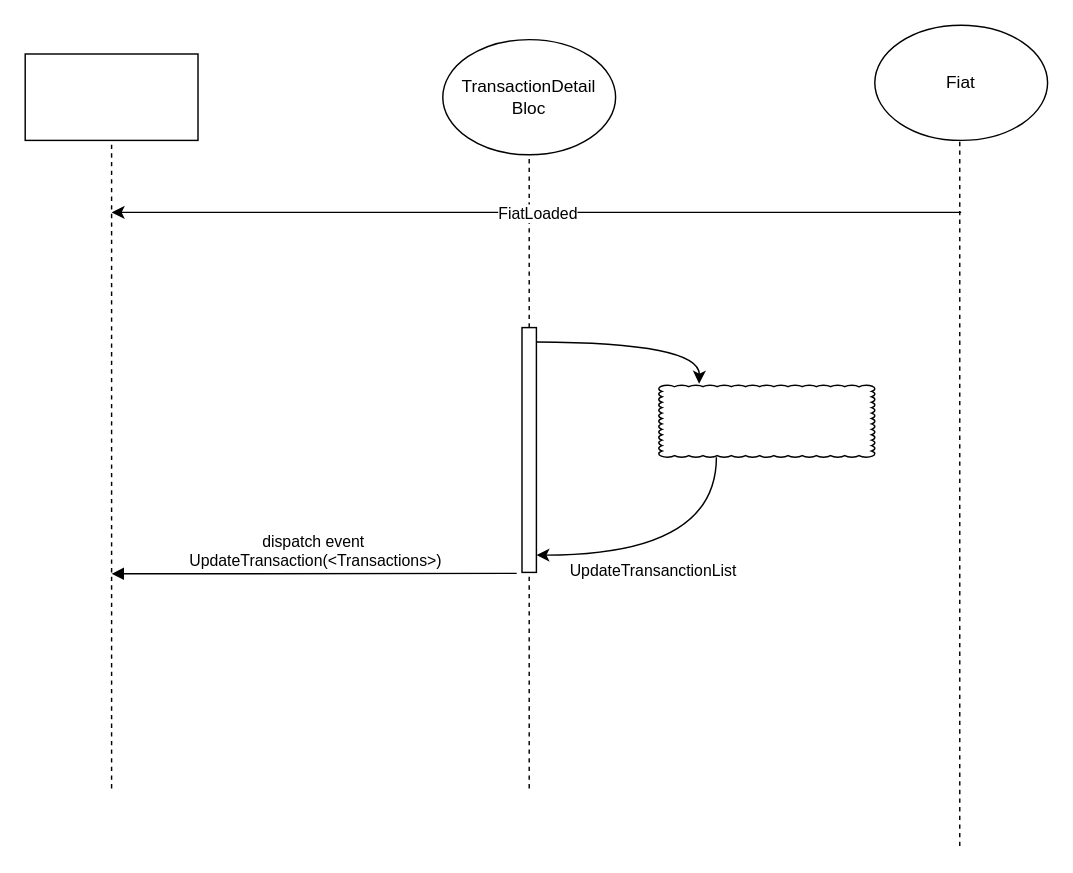
The diagram is 1073 pixels wide and 873 high, and some of its shapes have lost their labels. The centre of each missing label's shape, as x and y in pixels:
Listener: (x=766, y=420)
TransactionDetail Screen: (x=111, y=96)
